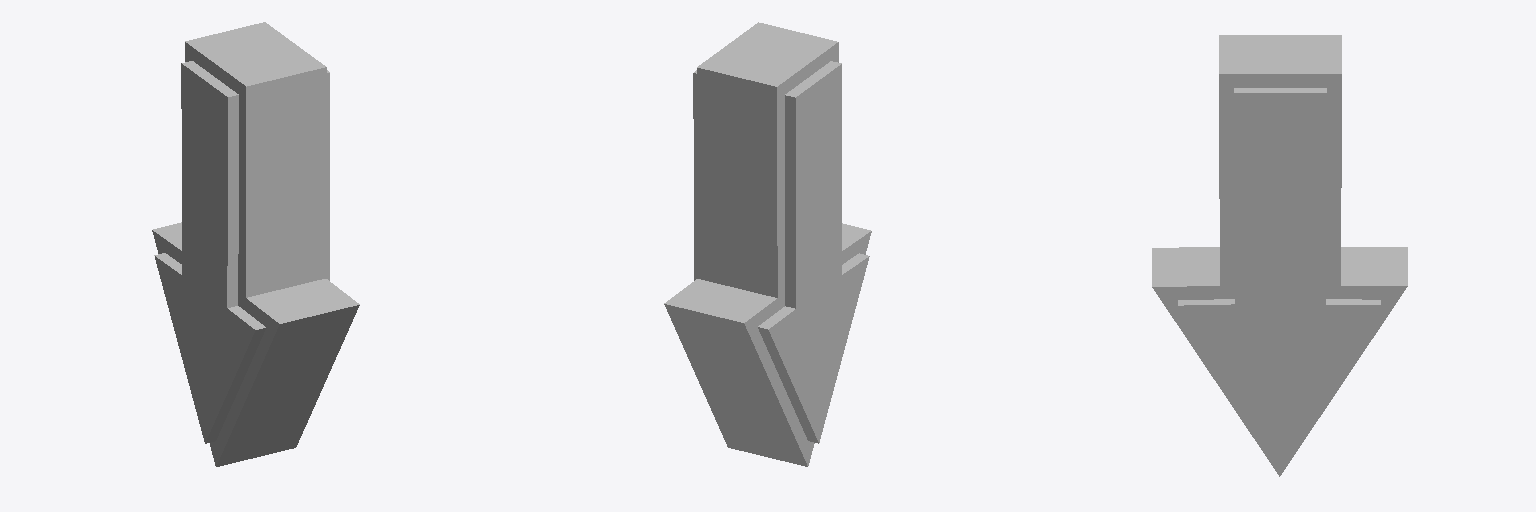
Rendered from arrow.obj.
3 renders of one model, left to right at view 1: azimuth 30°, elevation 25°; view 2: azimuth 150°, elevation 25°; view 3: azimuth 270°, elevation 25°, orthographic.
Parts seen in each view (by area): view 1: Cube; view 2: Cube; view 3: Cube.
Part boxes in pixels (bbox=[...]): Cube: bbox=[152, 22, 359, 466]; Cube: bbox=[664, 22, 871, 466]; Cube: bbox=[1152, 35, 1407, 476].
Size of the model in its own units: 0.7398 by 2.79 by 1.6.